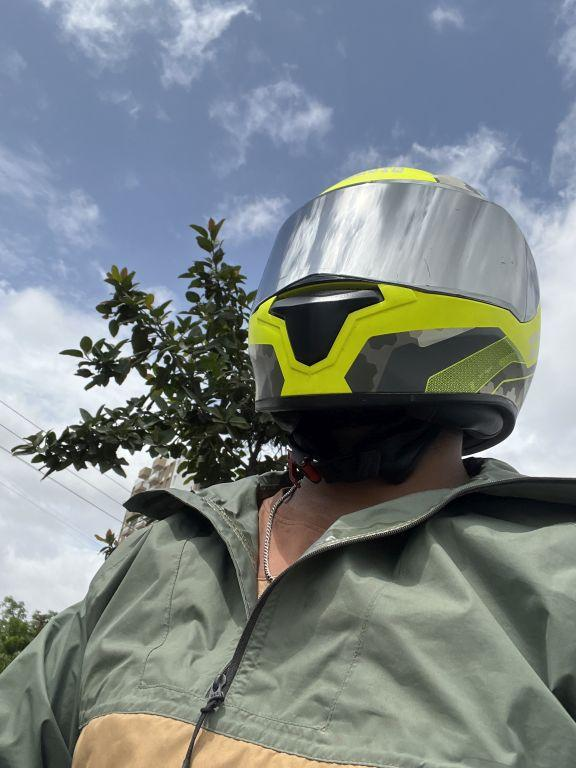helmet: (239, 154, 548, 466)
